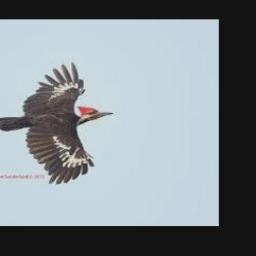Woodpecker: (0, 61, 112, 183)
